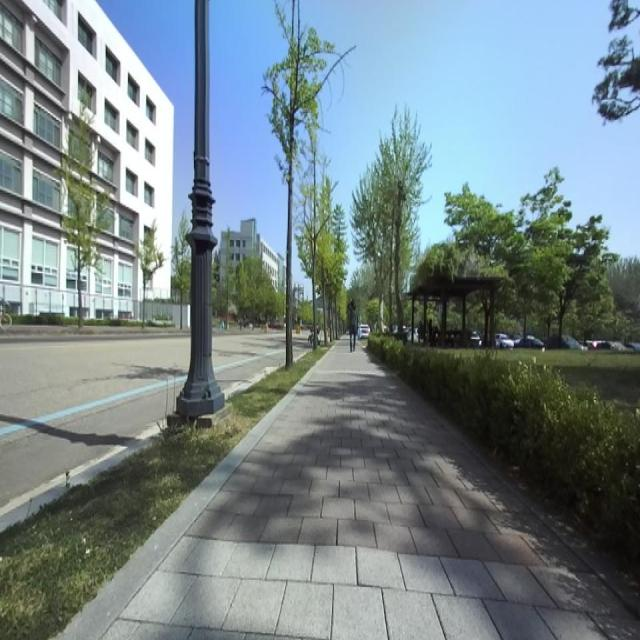sidewalk: (61, 340, 640, 639)
